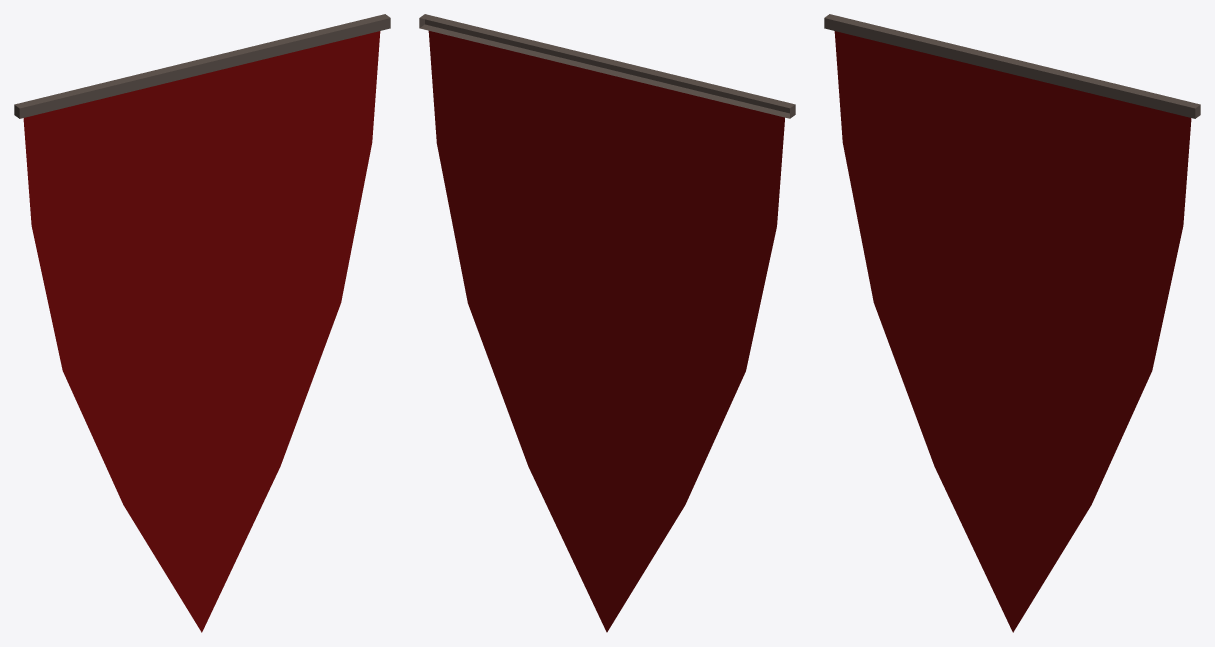
File: Banne_Pointy.FBX
The picture shows the model from 3 angles, left to right: view 1: azimuth 30°, elevation 25°; view 2: azimuth 150°, elevation 25°; view 3: azimuth 330°, elevation 25°; orthographic projection.
Parts seen in each view (by area): view 1: Banner_Pointy; view 2: Banner_Pointy; view 3: Banner_Pointy.
Boxes of the visible parts, x1=… form: Banner_Pointy: x1=14, y1=14, x2=390, y2=632; Banner_Pointy: x1=419, y1=14, x2=795, y2=632; Banner_Pointy: x1=824, y1=14, x2=1200, y2=632.
Size of the model in its own units: 271 by 399 by 6.91.
